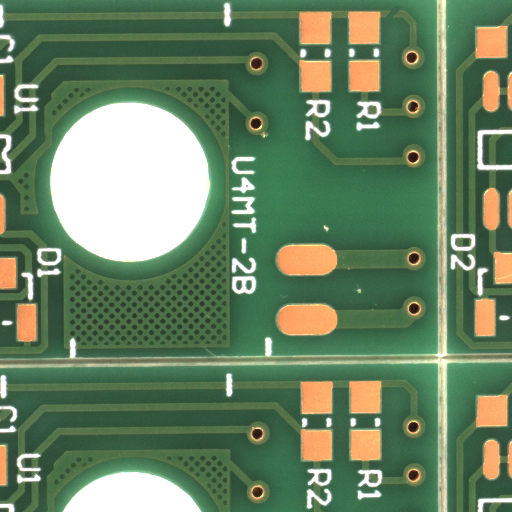Open_circuit: (392, 13, 407, 26)
